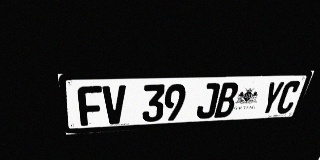3: (142, 84, 165, 122)
9: (163, 84, 187, 121)
B: (214, 82, 240, 118)
C: (274, 81, 302, 114)
F: (77, 86, 103, 126)
J: (195, 83, 221, 119)
V: (102, 85, 126, 125)
Y: (258, 81, 286, 115)
